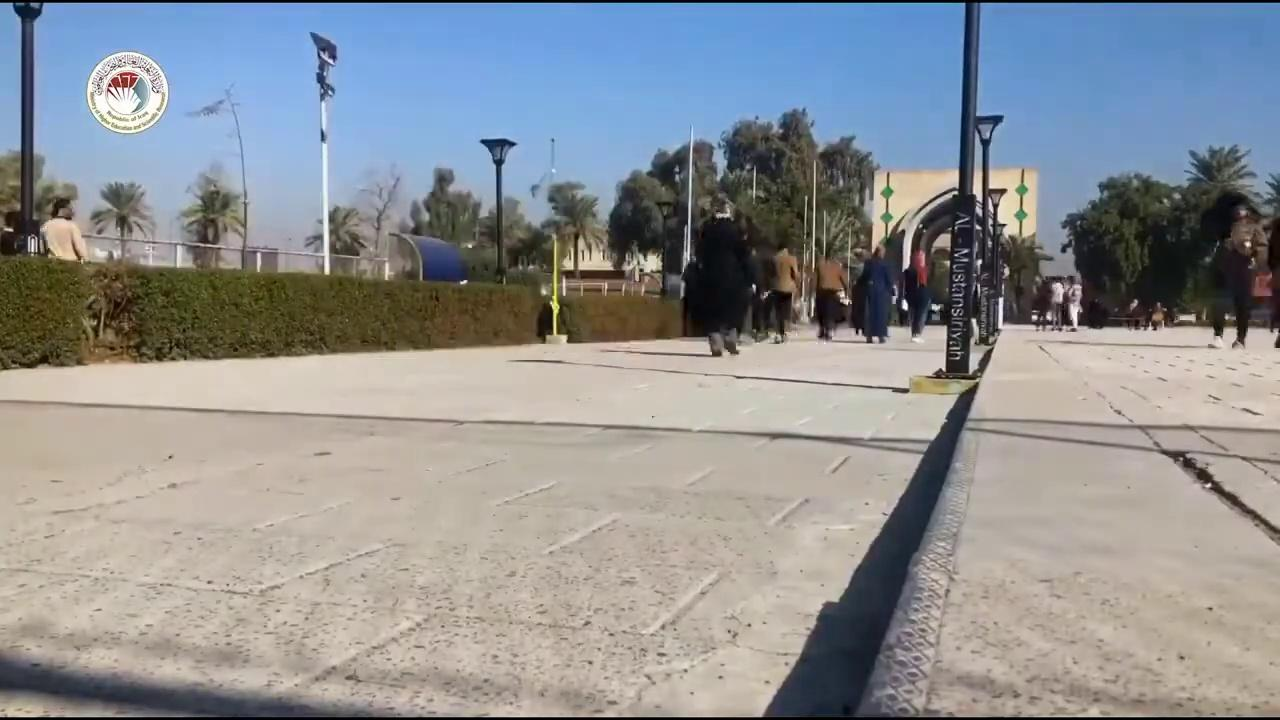person: (1206, 203, 1267, 349), (40, 196, 89, 263), (1264, 215, 1279, 348), (535, 298, 553, 342)
tree: (1058, 142, 1267, 324), (715, 106, 877, 320), (1059, 169, 1189, 316), (647, 137, 718, 275), (816, 133, 878, 261), (1180, 142, 1259, 241), (0, 147, 77, 248), (605, 168, 672, 281), (79, 253, 151, 358), (177, 170, 245, 268), (718, 114, 783, 205), (546, 180, 605, 278), (409, 166, 480, 247), (89, 179, 155, 259), (356, 168, 400, 274), (999, 230, 1053, 315), (475, 195, 526, 270), (604, 196, 649, 277), (0, 147, 44, 227), (303, 203, 368, 257), (506, 220, 548, 270), (32, 177, 78, 217), (1259, 170, 1279, 217)
